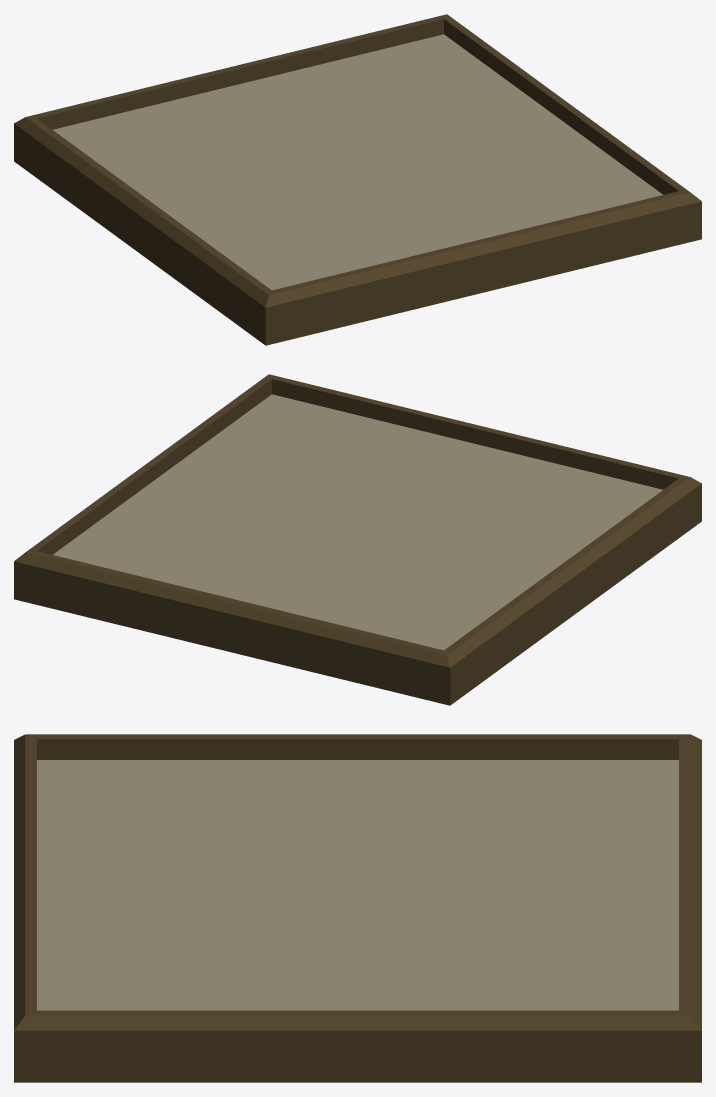
Rendered from fantasy_roof_flat_1.fbx.
The picture shows the model from 3 angles, top to bottom: view 1: azimuth 30°, elevation 25°; view 2: azimuth 150°, elevation 25°; view 3: azimuth 270°, elevation 25°; orthographic projection. The views are drawn at different scales.
Parts seen in each view (by area): view 1: Cube.051; view 2: Cube.051; view 3: Cube.051.
Part boxes in pixels (x1=…): Cube.051: x1=14, y1=14, x2=701, y2=345; Cube.051: x1=14, y1=374, x2=701, y2=705; Cube.051: x1=14, y1=734, x2=701, y2=1082.
Bounding box in the file's own units: 300 × 30 × 300.
